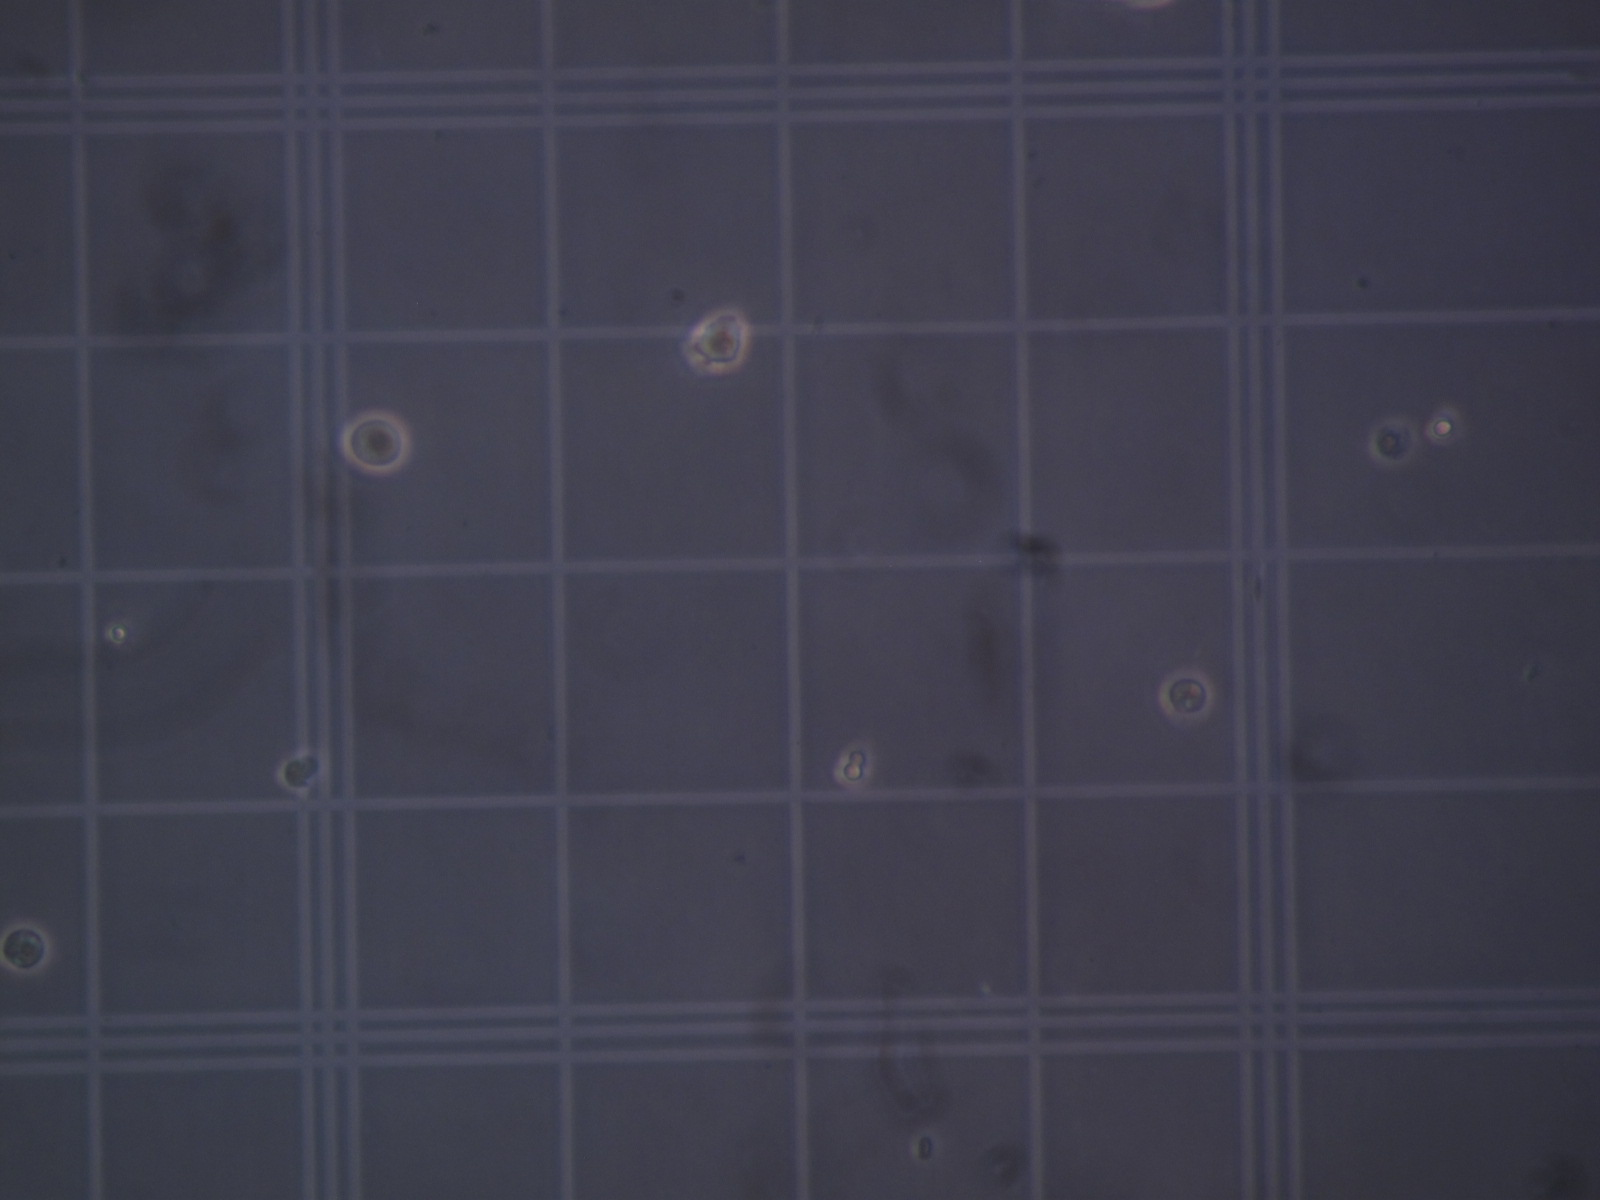hemo: (341, 408, 409, 474), (688, 309, 750, 374), (1157, 668, 1214, 724), (1, 920, 52, 976), (1369, 418, 1416, 466), (280, 749, 325, 792)
